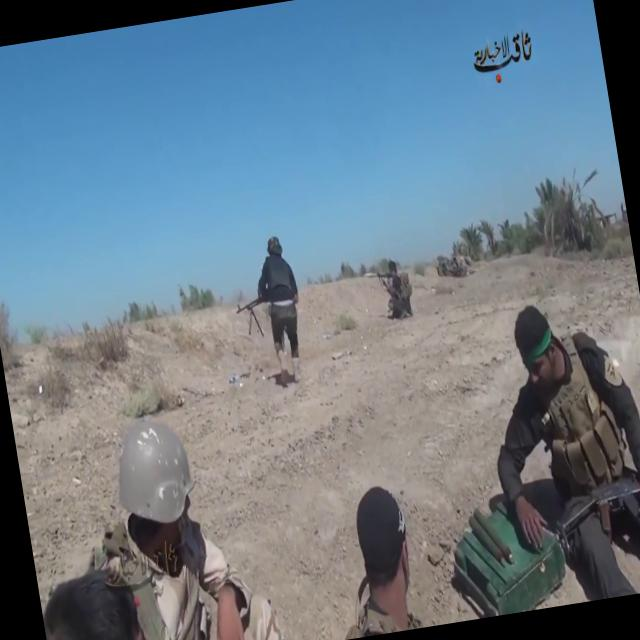long weapon: (546, 463, 639, 545), (228, 284, 272, 347)
